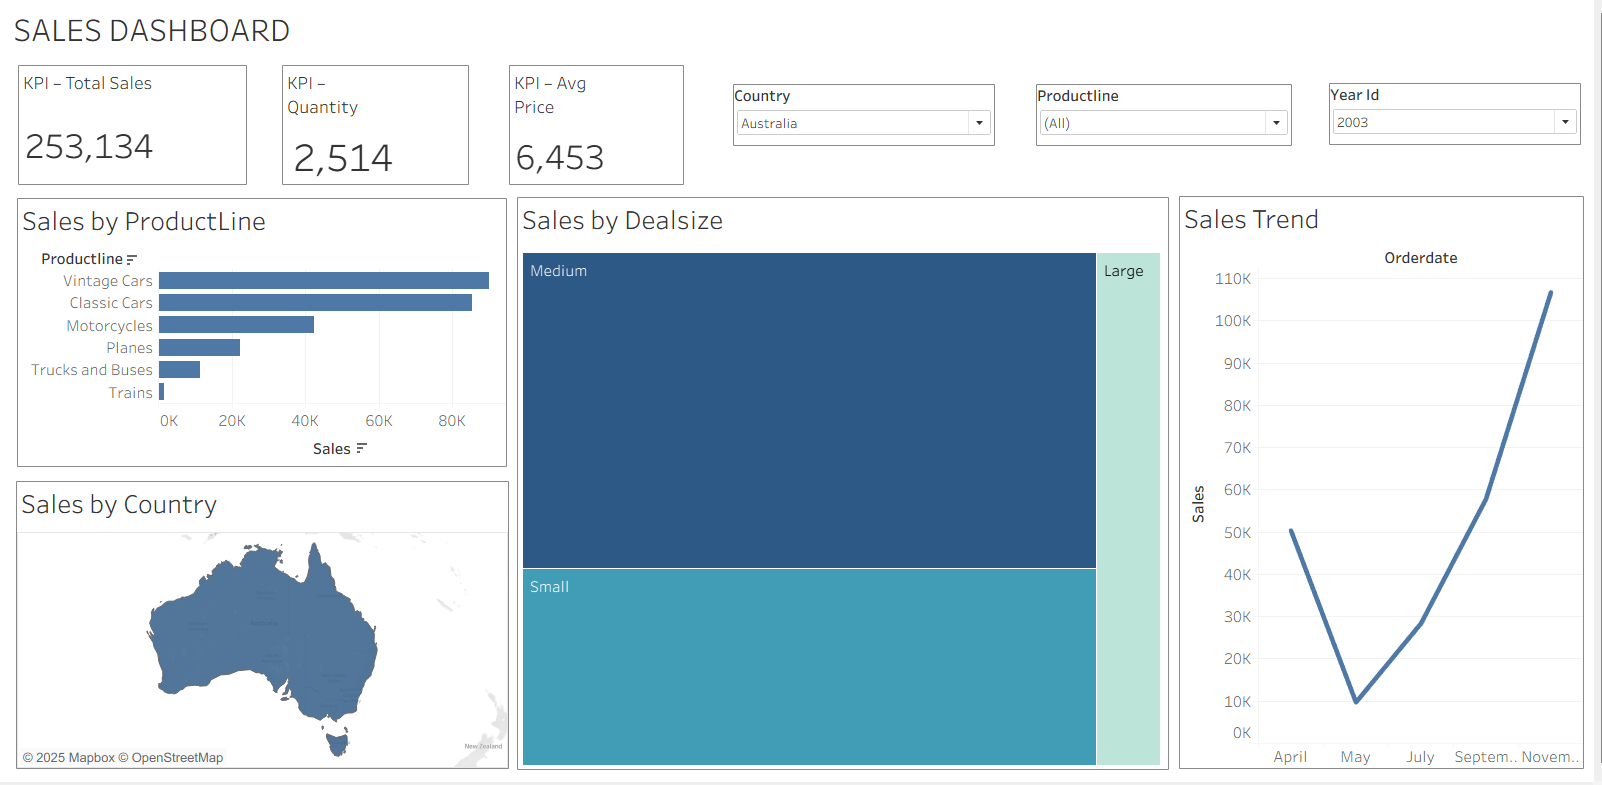

What the dashboard file says about the page in this screenshot:
{"tool":"tableau","page":{"name":"Sales Dashboard","canvas":[1000,1000],"units":"permille","ordinal":0},"visuals":[{"type":"title","box":[4.9,10.2,990.1,63.7]},{"type":"worksheet","title":"KPI – Total Sales","mark":"Text","box":[12.3,87.9,141.4,152.9]},{"type":"worksheet","title":"KPI – Quantity","mark":"Text","box":[175.3,87.9,115.4,152.9]},{"type":"worksheet","title":"KPI – Avg Price","mark":"Text","box":[315.4,87.9,108,152.9]},{"type":"filter","title":"Sales by ProductLine","param":"[federated.0zr6vtm041id5j13g6f990n9cnyr].[none:YEAR_ID:ok]","box":[821.6,110.8,155.6,79]},{"type":"filter","title":"Sales by ProductLine","param":"[federated.0zr6vtm041id5j13g6f990n9cnyr].[none:COUNTRY:nk]","box":[453.7,112.1,161.7,79]},{"type":"filter","title":"Sales by ProductLine","param":"[federated.0zr6vtm041id5j13g6f990n9cnyr].[none:PRODUCTLINE:nk]","box":[640.7,112.1,158,79]},{"type":"worksheet","title":"Sales Trend","mark":"Line","rows":["SALES"],"cols":["ORDERDATE"],"box":[729,254.8,250,729.9]},{"type":"worksheet","title":"Sales by Dealsize","mark":"Automatic","box":[320.4,256.1,402.5,729.9]},{"type":"worksheet","title":"Sales by ProductLine","mark":"Automatic","rows":["PRODUCTLINE"],"cols":["SALES"],"box":[11.7,257.3,302.5,342.7]},{"type":"worksheet","title":"Sales by Country","mark":"Automatic","box":[11.1,617.8,304.3,366.9]}]}

Visuals, with their boxes on the dashboard's canvas, which has no fixed pixel size, in thousandths of its width and height (x1, y1, x2, y2). These are canvas units, not pixel positions in the 1602x785 screenshot, which may show the page scaled, cropped or inside an application window:
title: crop(5, 10, 995, 74)
"KPI – Total Sales" worksheet (Text marks): crop(12, 88, 154, 241)
"KPI – Quantity" worksheet (Text marks): crop(175, 88, 291, 241)
"KPI – Avg Price" worksheet (Text marks): crop(315, 88, 423, 241)
"Sales by ProductLine" filter: crop(822, 111, 977, 190)
"Sales by ProductLine" filter: crop(454, 112, 615, 191)
"Sales by ProductLine" filter: crop(641, 112, 799, 191)
"Sales Trend" worksheet (Line marks): crop(729, 255, 979, 985)
"Sales by Dealsize" worksheet: crop(320, 256, 723, 986)
"Sales by ProductLine" worksheet: crop(12, 257, 314, 600)
"Sales by Country" worksheet: crop(11, 618, 315, 985)
